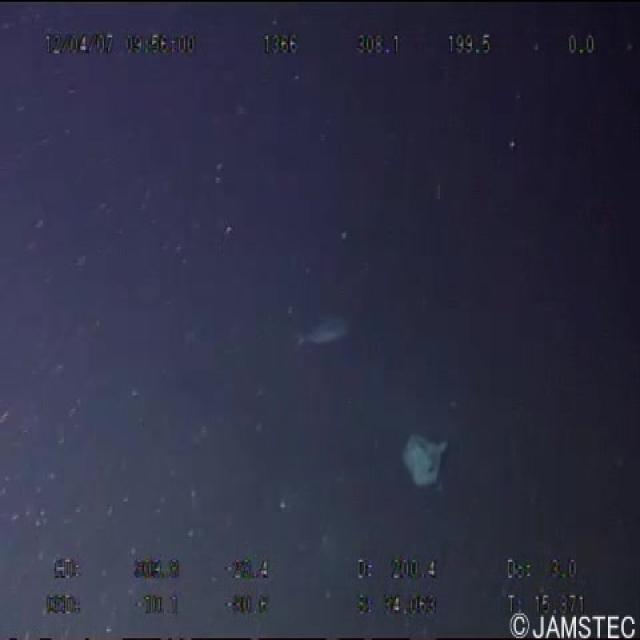plastic: (396, 427, 448, 492)
